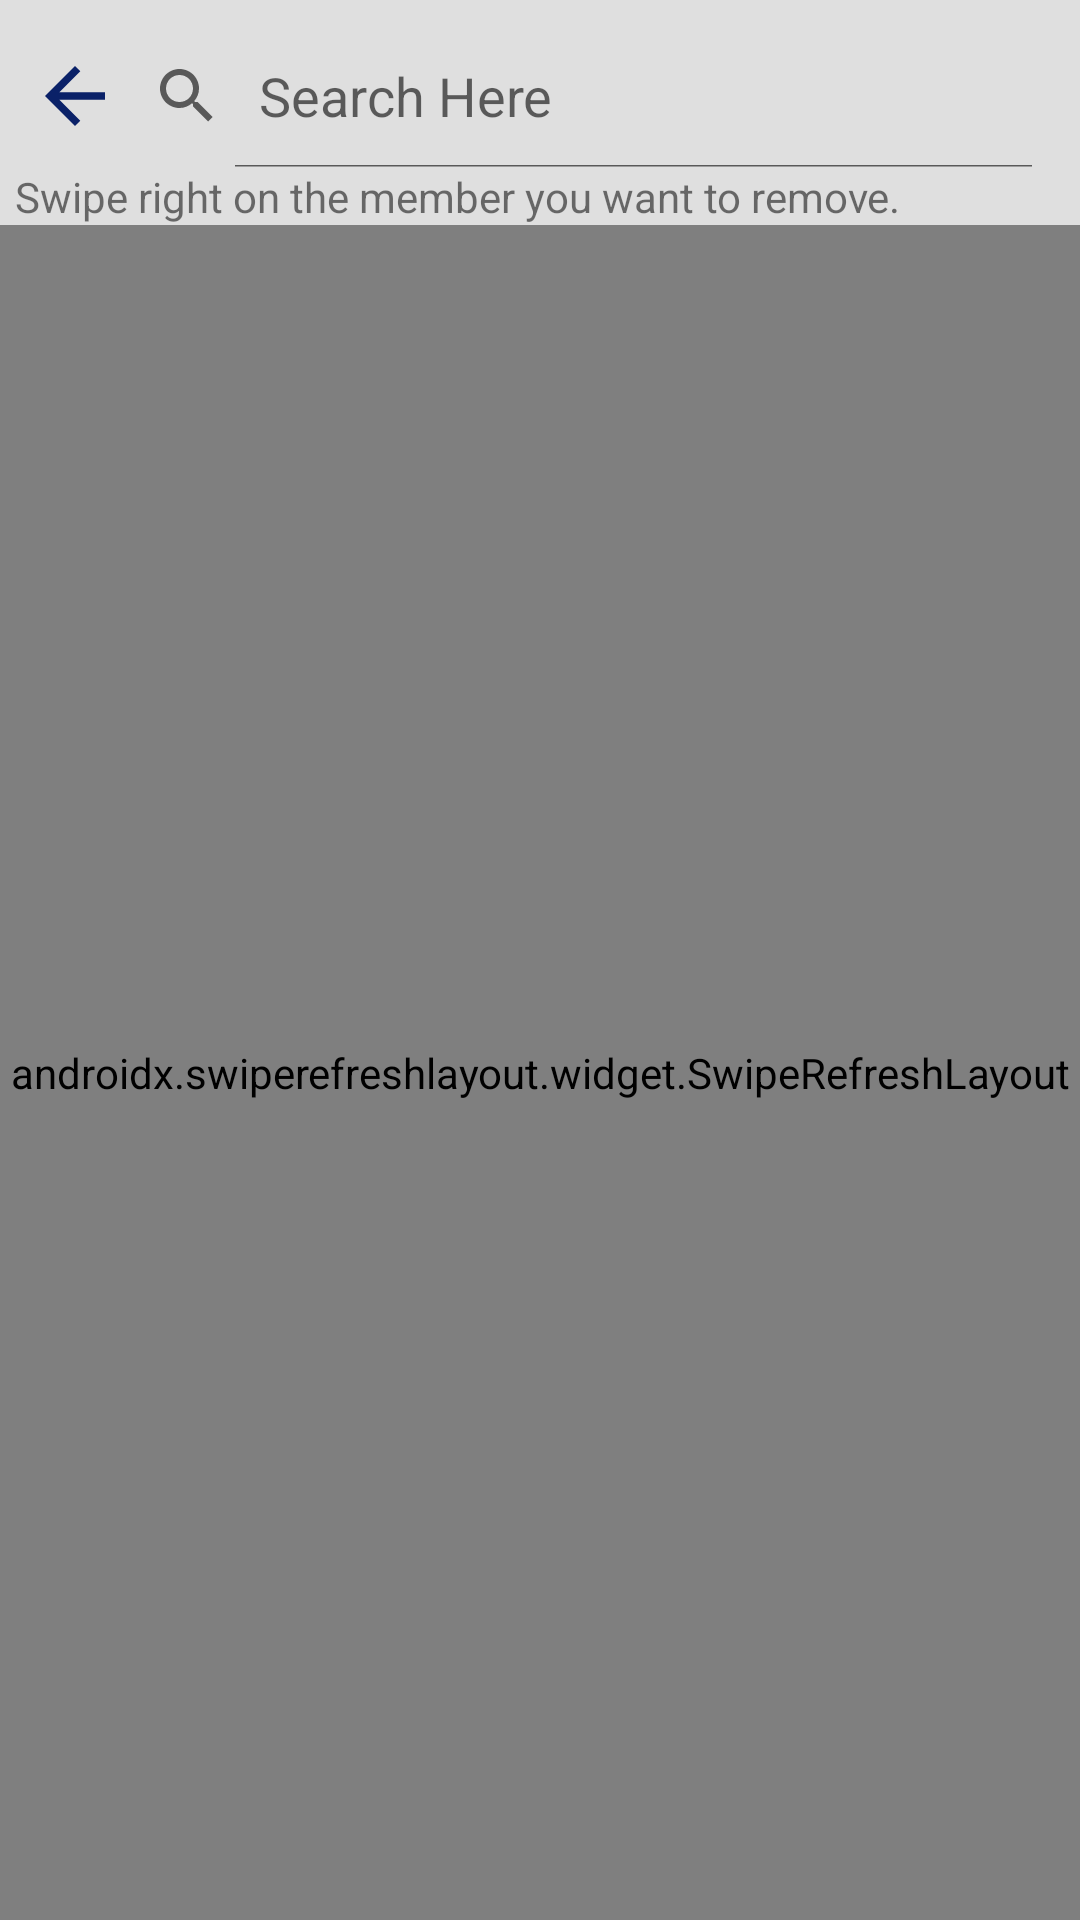

Screen size 1080×1920. Icon name, then its center in pixels as (x,y):
arrow back: (75,96)
